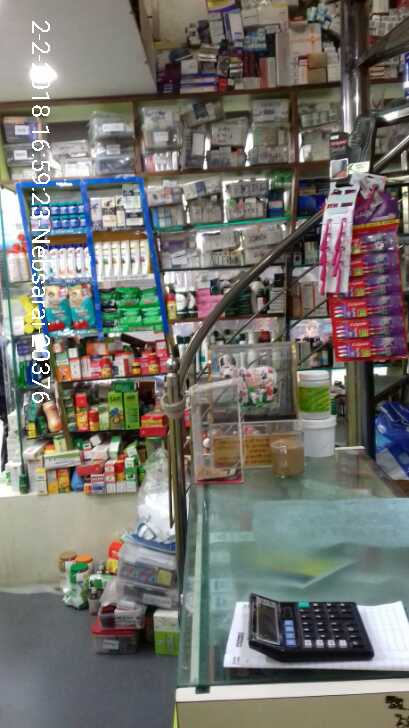vicks: (31, 198, 90, 240)
